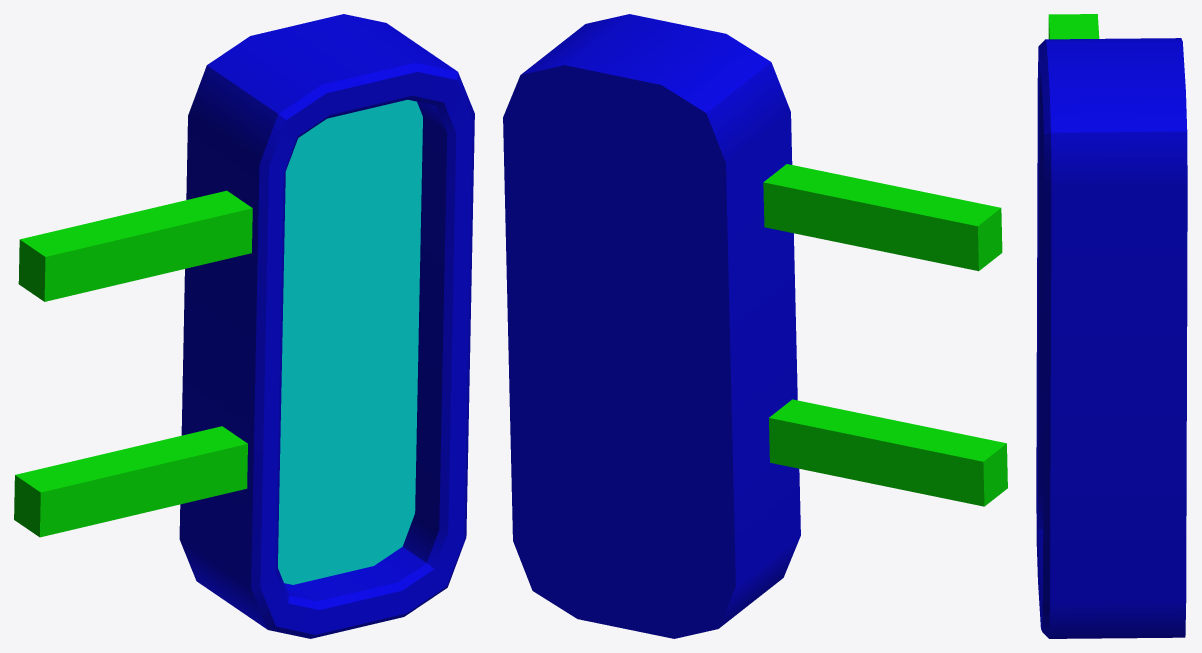
Rendered from Banner02.fbx.
3 views of the same model, side by side, from view 1: azimuth 30°, elevation 25°; view 2: azimuth 150°, elevation 25°; view 3: azimuth 270°, elevation 25° (orthographic).
Parts seen in each view (by area): view 1: polySurface249, polySurface248, polySurface247; view 2: polySurface249, polySurface247, polySurface248; view 3: polySurface249, polySurface247.
Part boxes in pixels (box(x1,y1,x2,y2)): polySurface249: box(179, 14, 474, 638); polySurface248: box(14, 426, 247, 537); polySurface247: box(18, 190, 252, 301); polySurface249: box(503, 14, 800, 638); polySurface247: box(763, 164, 1002, 271); polySurface248: box(769, 399, 1007, 506); polySurface249: box(1036, 38, 1187, 638); polySurface247: box(1048, 14, 1099, 39).
Bounding box in the file's own units: 150 × 181 × 44.83.
